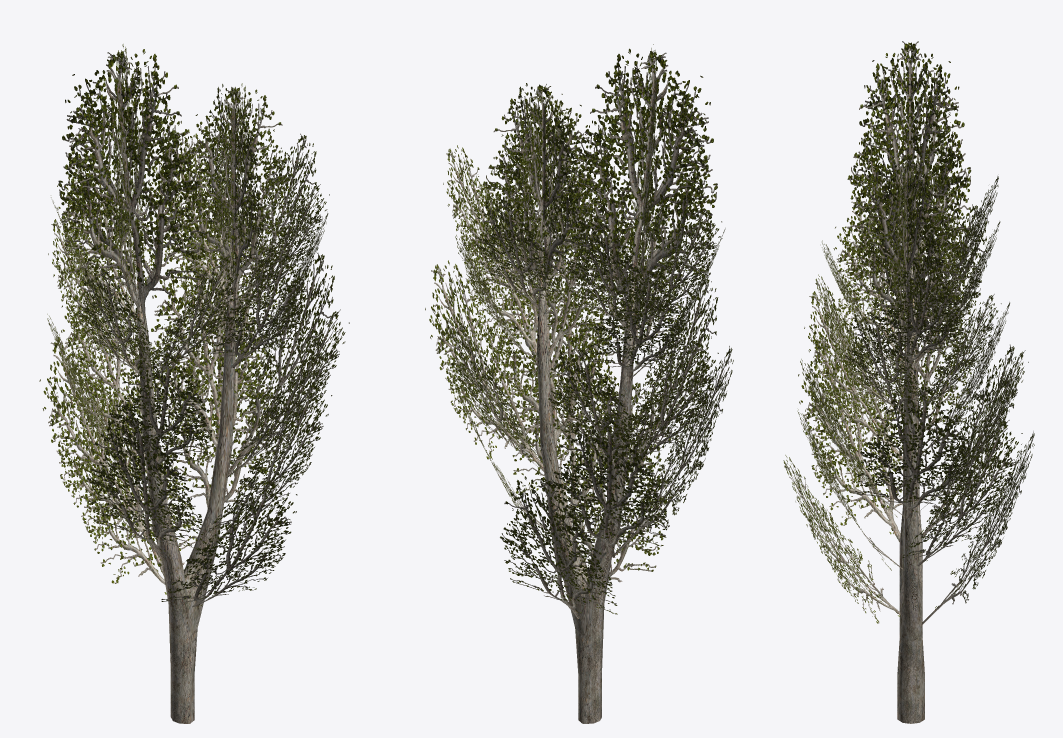
Rendered from Sharp_Poplar07.gltf.
3 views of the same model, side by side, from view 1: azimuth 30°, elevation 25°; view 2: azimuth 150°, elevation 25°; view 3: azimuth 270°, elevation 25° (orthographic). The views are drawn at different scales.
Visible parts, largest first — view 1: top, Dfol, Efol, Bfol, Trunk, A, Ffol; view 2: top, Dfol, Efol, A, Bfol, Trunk, Ffol; view 3: top, Dfol, Efol, Bfol, A, Trunk, Ffol.
Boxes of the visible parts, left/top/right/bottom form: top: left=58, top=44, right=292, bottom=344; Dfol: left=47, top=237, right=349, bottom=478; Efol: left=39, top=303, right=332, bottom=559; Bfol: left=48, top=177, right=328, bottom=380; Trunk: left=136, top=228, right=235, bottom=723; A: left=51, top=129, right=329, bottom=334; Ffol: left=72, top=383, right=297, bottom=607; top: left=482, top=44, right=718, bottom=344; Dfol: left=425, top=233, right=718, bottom=474; Efol: left=448, top=300, right=733, bottom=557; A: left=443, top=121, right=721, bottom=330; Bfol: left=455, top=183, right=725, bottom=378; Trunk: left=537, top=227, right=636, bottom=723; Ffol: left=500, top=382, right=671, bottom=619; top: left=846, top=41, right=971, bottom=370; Dfol: left=800, top=267, right=1028, bottom=518; Efol: left=797, top=333, right=1022, bottom=570; Bfol: left=815, top=199, right=1001, bottom=419; A: left=822, top=147, right=1000, bottom=368; Trunk: left=897, top=252, right=924, bottom=723; Ffol: left=783, top=431, right=1034, bottom=625.
Bounding box in the file's own units: 11.69 × 26.32 × 10.1.
2 materials, 2 textured.
